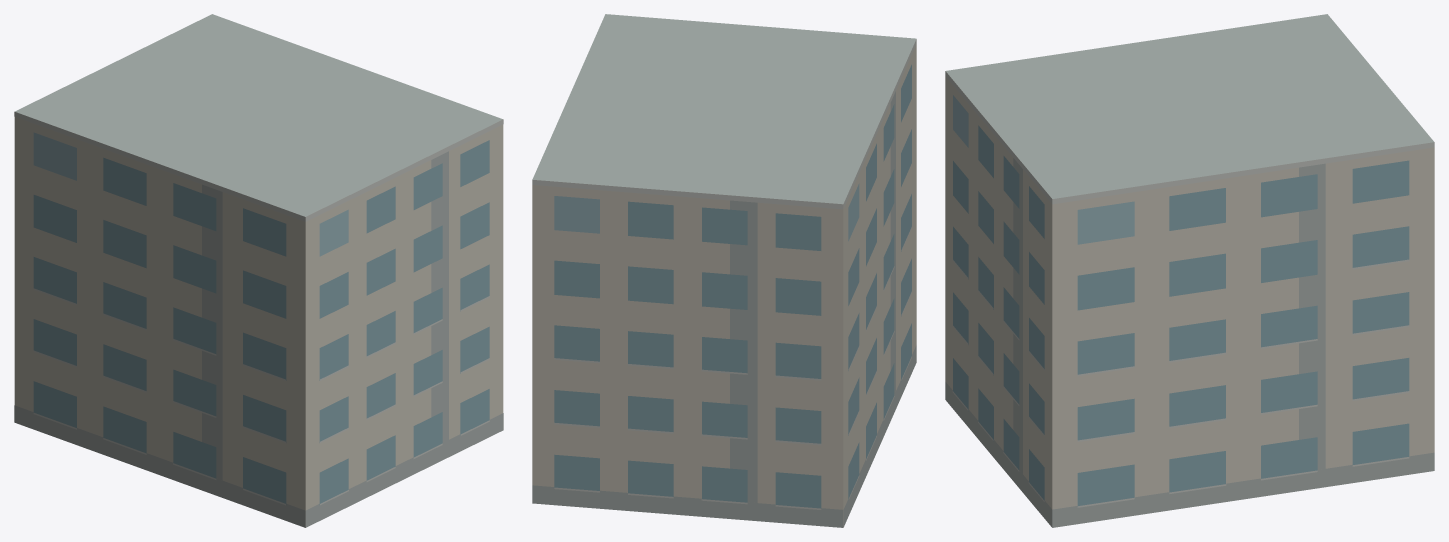
Rendered from residential-5e879417-828d-4213-bd17-f4a791ed6e5f.glb.
3 renders of one model, left to right at view 1: azimuth 30°, elevation 25°; view 2: azimuth 150°, elevation 25°; view 3: azimuth 270°, elevation 25°, orthographic. The views are drawn at different scales.
Visible parts, largest first — view 1: residential-5e879417-828d-4213-bd17-f4a791ed6e5f.tmp; view 2: residential-5e879417-828d-4213-bd17-f4a791ed6e5f.tmp; view 3: residential-5e879417-828d-4213-bd17-f4a791ed6e5f.tmp.
Boxes of the visible parts, box(x1,y1,x2,y2) form: residential-5e879417-828d-4213-bd17-f4a791ed6e5f.tmp: box(14, 14, 503, 527); residential-5e879417-828d-4213-bd17-f4a791ed6e5f.tmp: box(532, 14, 916, 527); residential-5e879417-828d-4213-bd17-f4a791ed6e5f.tmp: box(945, 14, 1434, 527).
Bounding box in the file's own units: 18.42 × 15.25 × 20.57.
